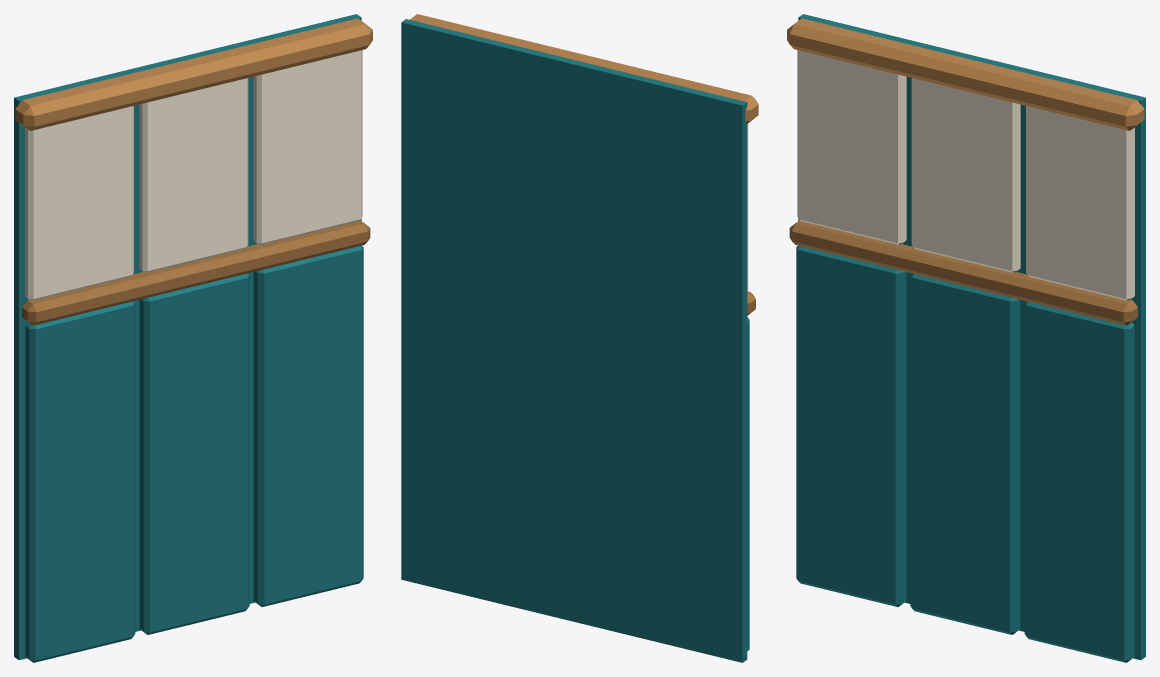
File: wall_panel_05m.glb
3 views of the same model, side by side, from view 1: azimuth 30°, elevation 25°; view 2: azimuth 150°, elevation 25°; view 3: azimuth 330°, elevation 25° (orthographic).
Visible parts, largest first — view 1: wall_panel_05m; view 2: wall_panel_05m; view 3: wall_panel_05m.
Boxes of the visible parts, x1,y1,x2,y2 form: wall_panel_05m: (14, 14, 372, 662); wall_panel_05m: (401, 14, 758, 662); wall_panel_05m: (787, 14, 1145, 662).
Bounding box in the file's own units: 0.51 × 0.78 × 0.042.
